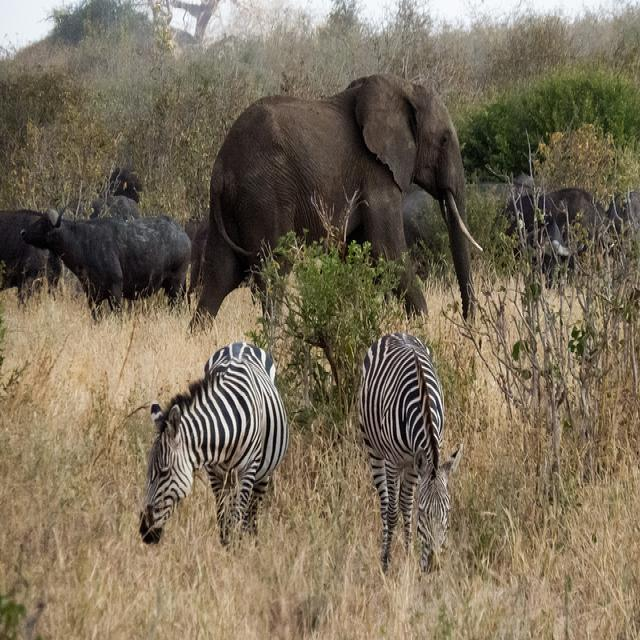cow: (20, 201, 191, 323), (0, 210, 60, 298)
